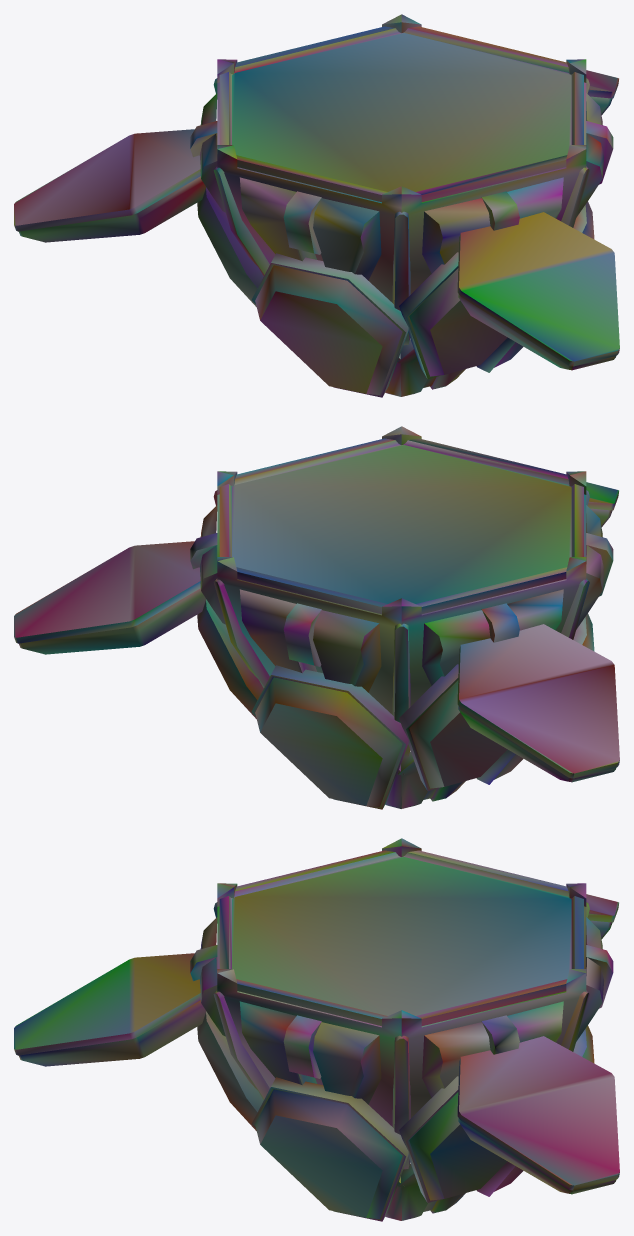
File: ASE_CI_Pod_Base.gltf
3 renders of one model, top to bottom at view 1: azimuth 30°, elevation 25°; view 2: azimuth 150°, elevation 25°; view 3: azimuth 270°, elevation 25°, orthographic.
Parts seen in each view (by area): view 1: ASE_CI_Pod_Base; view 2: ASE_CI_Pod_Base; view 3: ASE_CI_Pod_Base.
Boxes of the visible parts, <box> form: ASE_CI_Pod_Base: <box>14,14,619,397</box>; ASE_CI_Pod_Base: <box>14,426,619,809</box>; ASE_CI_Pod_Base: <box>14,838,619,1221</box>.
Bounding box in the file's own units: 2.48 × 1.07 × 2.16.
